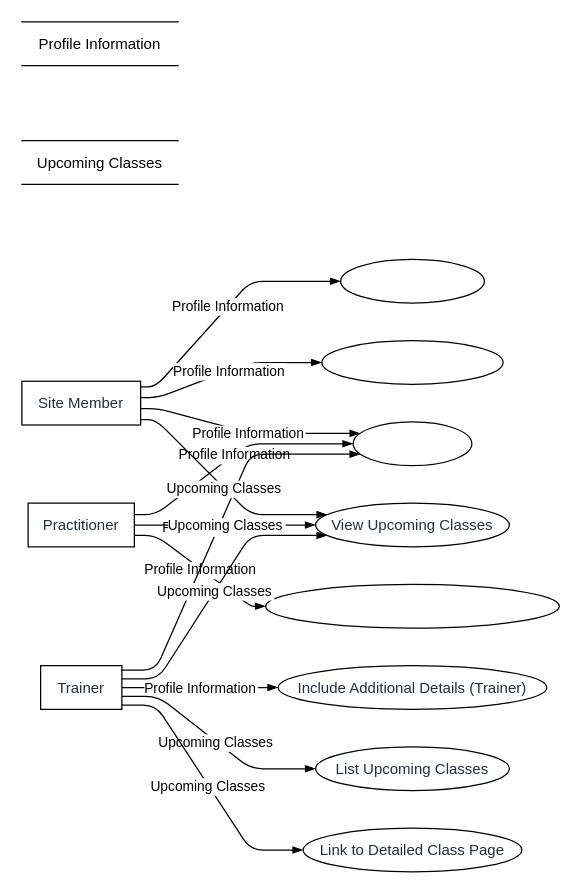
Some shapes in this 581 by 894 pixel diagram are drawn without their labels. The box of each missing label's shape, as (x1, y1, x2, y2) in pixels:
Describe Myself: (339, 258, 484, 303)
Include Additional Details (Practitioner): (264, 583, 559, 628)
Mark Profile as Private: (321, 339, 503, 384)
View Profile: (352, 421, 472, 466)
